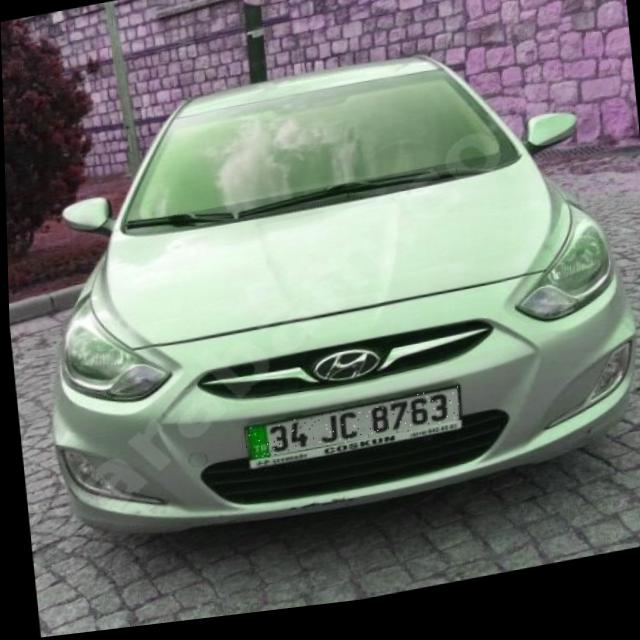license_plate: (240, 397, 459, 467)
